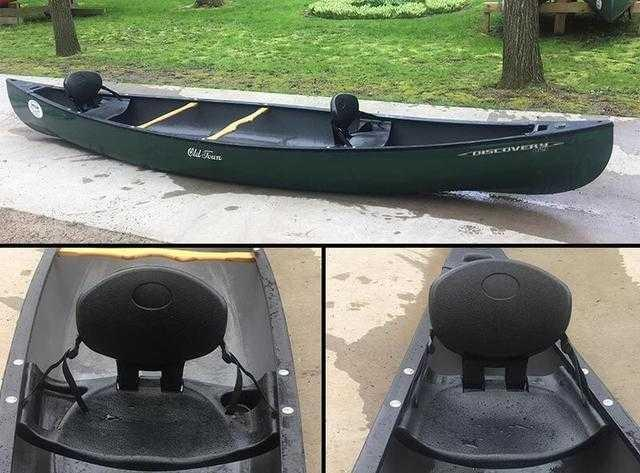kayak: (4, 68, 624, 195)
